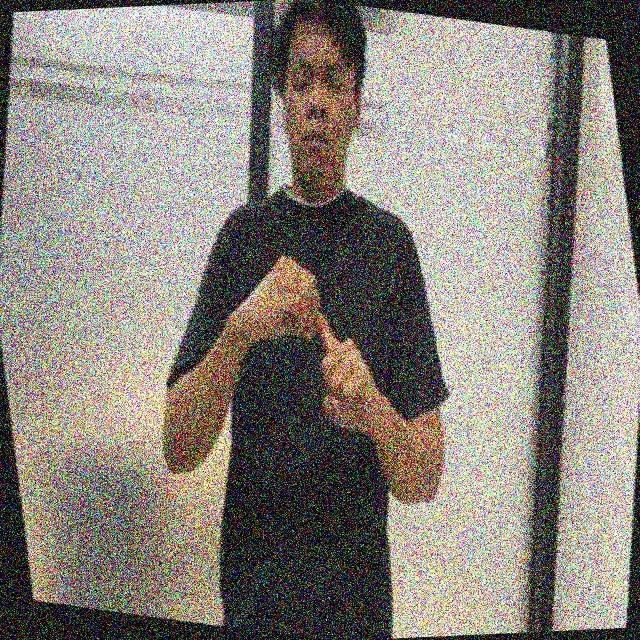Q: (254, 249, 382, 443)
